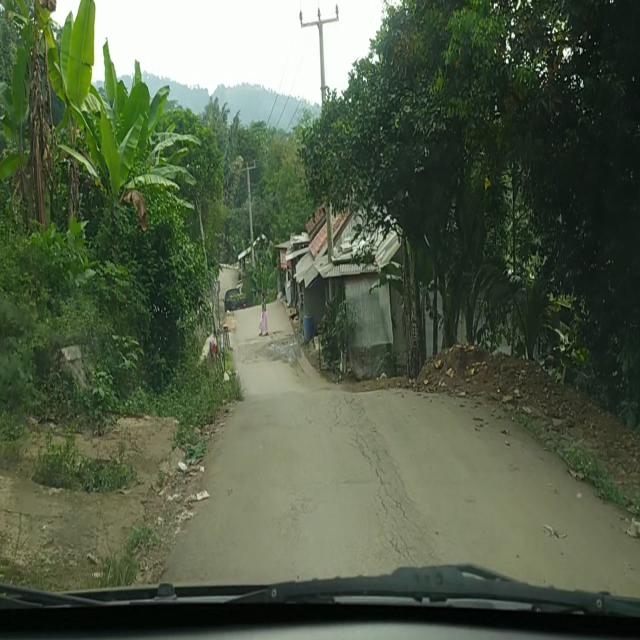Drain Hole: (331, 403, 420, 557)
